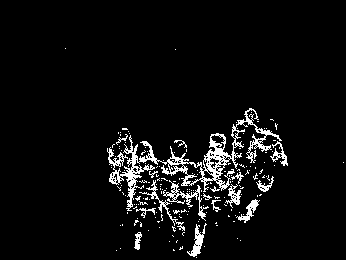person: (158, 137, 196, 251), (197, 133, 233, 251), (250, 116, 288, 220), (131, 142, 154, 248), (232, 106, 257, 203), (107, 125, 137, 195)
